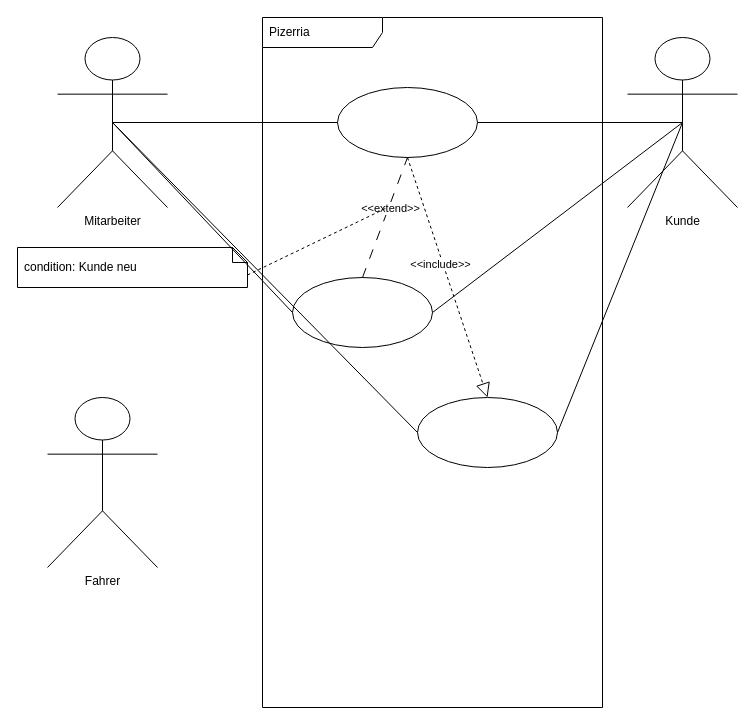
Image size: 755x725. Some labels were removed from this diagram. The shapes that lost their labels are listed below. From the top down, each one's centre as x and y in pixels, then its label:
At point (407, 122): "Bestellanruf".
At point (362, 312): "Kundendaten erfassen".
At point (487, 432): "Bestellung aufnehmen".
